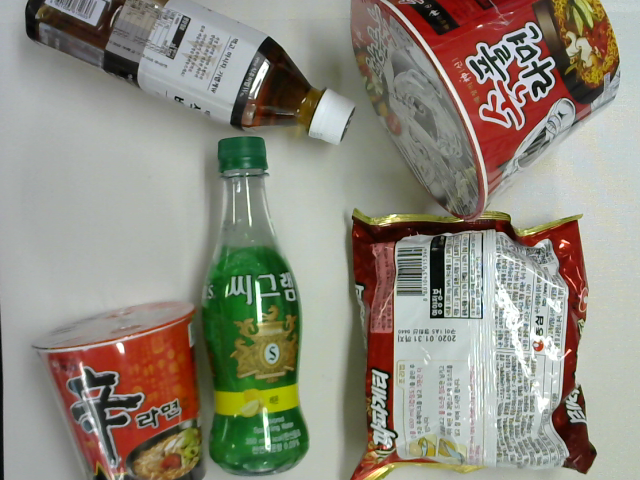Hejangpul: (348, 1, 622, 222)
Post-meal_recipe_W_tea_500ml: (21, 1, 358, 147)
Seagram_Lemon_Carbonated_Water: (196, 137, 307, 480)
Sichuan_Chapaghetti: (348, 211, 599, 480)
Sinramen_small: (30, 297, 200, 478)
